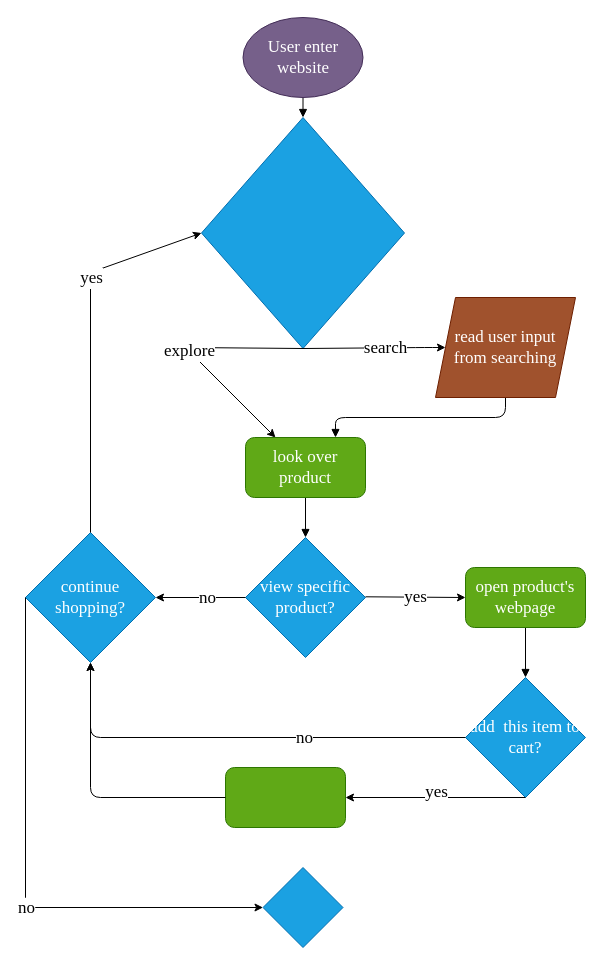
This 603x965 diagram has some shape labels left out. Each missing label, with the box of its shape:
cart added confirmation: (224, 766, 346, 828)
checkout?: (262, 866, 343, 948)
search for a product or explore the product on the home page?: (200, 116, 404, 348)
